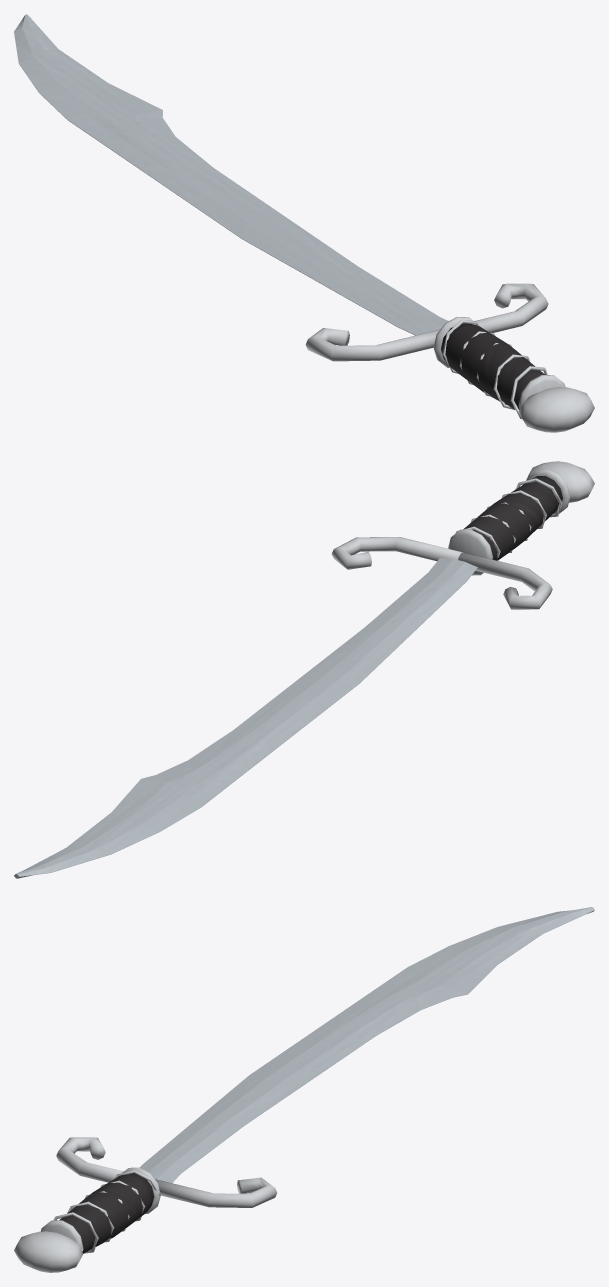
Rendered from item_brsword2.glb.
3 renders of one model, top to bottom at view 1: azimuth 30°, elevation 25°; view 2: azimuth 150°, elevation 25°; view 3: azimuth 330°, elevation 25°, orthographic. The views are drawn at different scales.
Visible parts, largest first — view 1: swords_brsword2; view 2: swords_brsword2; view 3: swords_brsword2.
Boxes of the visible parts, x1,y1,x2,y2 form: swords_brsword2: (14, 14, 594, 432); swords_brsword2: (14, 461, 594, 878); swords_brsword2: (14, 907, 594, 1272).
Bounding box in the file's own units: 0.3153 × 0.0719 × 1.38.
Materials: 1 (1 with a texture image).
